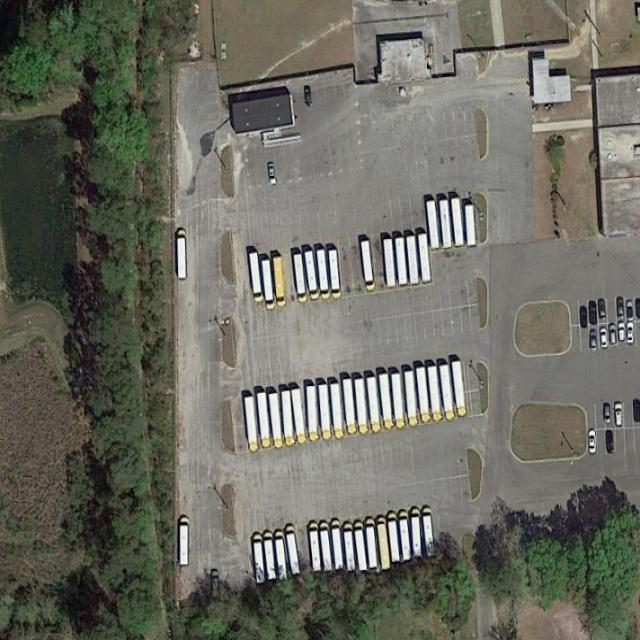large-vehicle: (440, 365, 456, 423), (367, 377, 383, 434), (284, 524, 301, 577), (379, 375, 395, 430), (416, 368, 431, 426), (343, 379, 358, 435), (428, 367, 443, 423), (452, 362, 467, 418), (280, 391, 295, 446), (361, 241, 377, 292), (377, 517, 392, 571), (331, 383, 345, 440), (270, 393, 284, 450), (257, 393, 271, 450), (245, 396, 259, 453), (355, 379, 369, 435), (319, 385, 333, 440), (273, 530, 288, 581), (249, 253, 264, 303), (318, 522, 333, 572), (405, 371, 418, 427), (392, 375, 405, 431), (273, 256, 287, 308), (387, 511, 401, 563), (305, 252, 320, 300), (317, 249, 331, 300), (398, 510, 412, 561), (329, 250, 343, 300), (294, 254, 308, 304), (422, 507, 436, 557), (354, 521, 368, 571), (263, 531, 277, 581), (451, 198, 465, 247), (426, 200, 440, 249), (262, 260, 276, 309), (342, 523, 356, 572), (308, 523, 322, 572), (331, 519, 344, 571), (365, 518, 378, 569), (253, 533, 266, 584), (407, 236, 420, 286), (440, 200, 453, 249), (307, 386, 318, 441), (419, 233, 431, 283), (384, 239, 396, 288), (396, 238, 408, 286), (411, 508, 422, 558), (177, 230, 187, 279), (466, 206, 477, 247), (180, 516, 189, 566)
small-vehicle: (614, 403, 625, 426), (588, 430, 598, 455), (598, 300, 608, 323), (590, 301, 599, 326), (626, 300, 636, 322), (609, 324, 618, 348), (591, 329, 600, 353), (606, 431, 615, 454), (627, 322, 636, 345), (618, 322, 627, 344), (600, 327, 609, 349), (603, 403, 612, 424), (580, 307, 589, 327), (304, 87, 313, 107), (211, 569, 219, 591), (617, 298, 625, 319), (269, 163, 276, 178)
